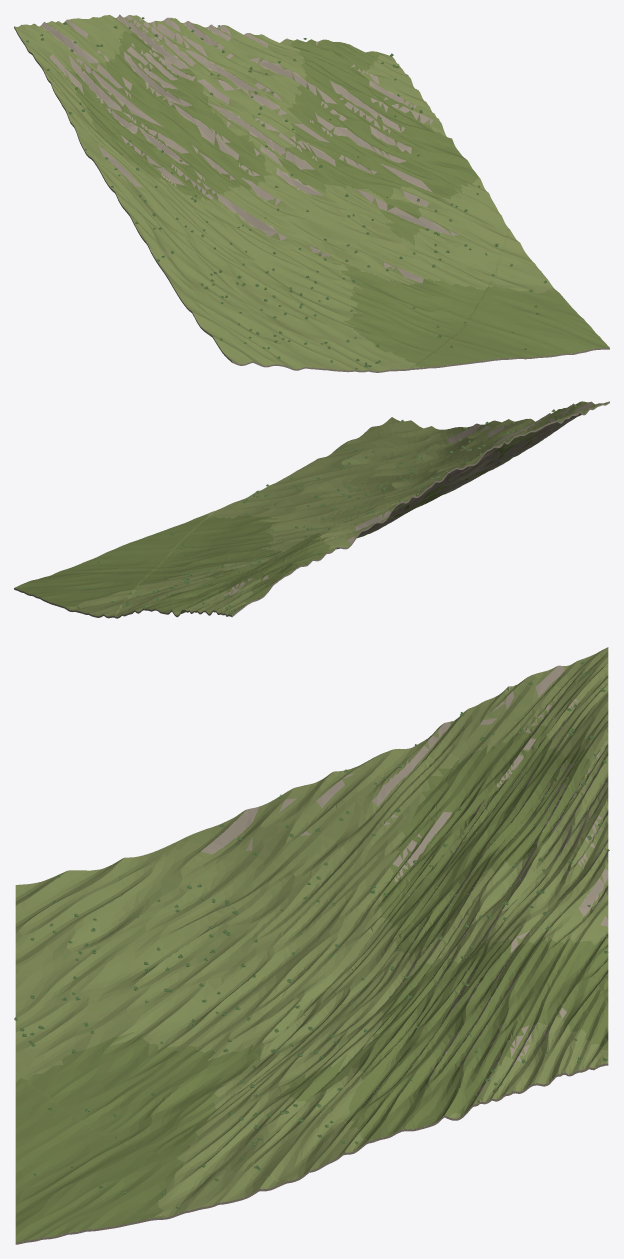
The model's file is parca_+7_-7-yakin.glb.
The picture shows the model from 3 angles, top to bottom: view 1: azimuth 30°, elevation 25°; view 2: azimuth 210°, elevation 25°; view 3: azimuth 270°, elevation 25°; orthographic projection. The views are drawn at different scales.
Parts seen in each view (by area): view 1: parca_+7_-7_arazi, parca_+7_-7_bitkiler; view 2: parca_+7_-7_arazi, parca_+7_-7_bitkiler; view 3: parca_+7_-7_arazi, parca_+7_-7_bitkiler.
Boxes of the visible parts, x1,y1,x2,y2 form: parca_+7_-7_arazi: [14, 14, 609, 372]; parca_+7_-7_bitkiler: [26, 17, 546, 369]; parca_+7_-7_arazi: [14, 401, 609, 618]; parca_+7_-7_bitkiler: [77, 404, 597, 613]; parca_+7_-7_arazi: [15, 647, 608, 1244]; parca_+7_-7_bitkiler: [14, 661, 609, 1209].
Bounding box in the file's own units: 1002 × 646 × 1006.
